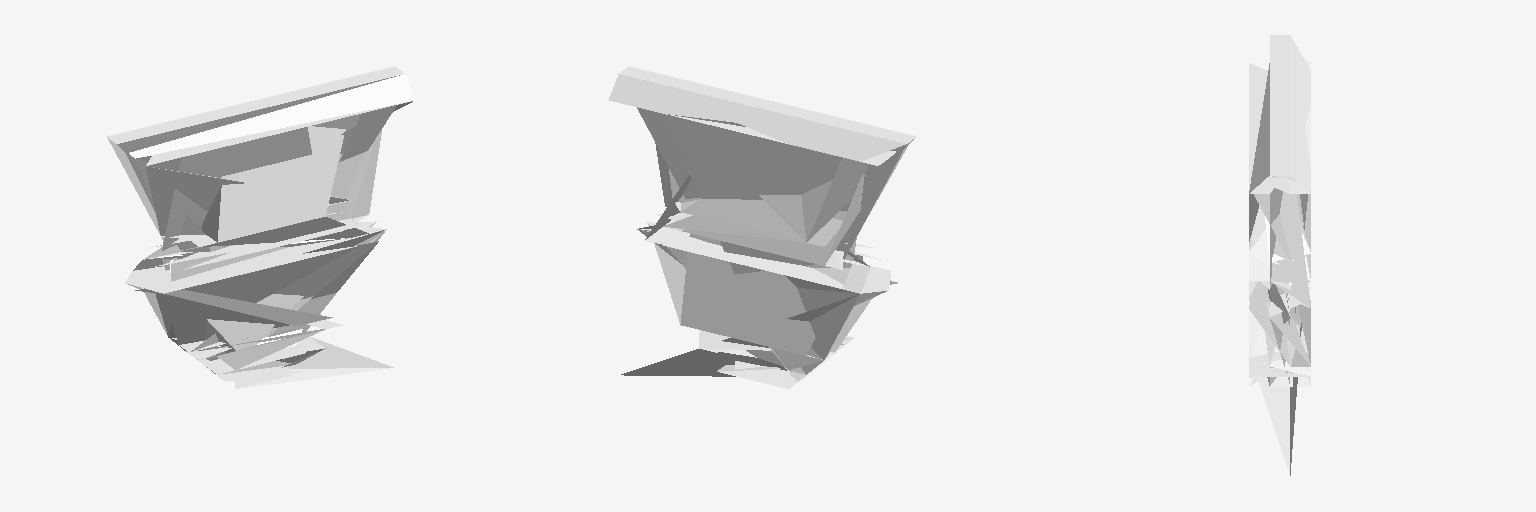
The model's file is green_spring_1.obj.
The picture shows the model from 3 angles: view 1: azimuth 30°, elevation 25°; view 2: azimuth 150°, elevation 25°; view 3: azimuth 270°, elevation 25°; orthographic projection.
Size of the model in its own units: 16 by 16 by 3.